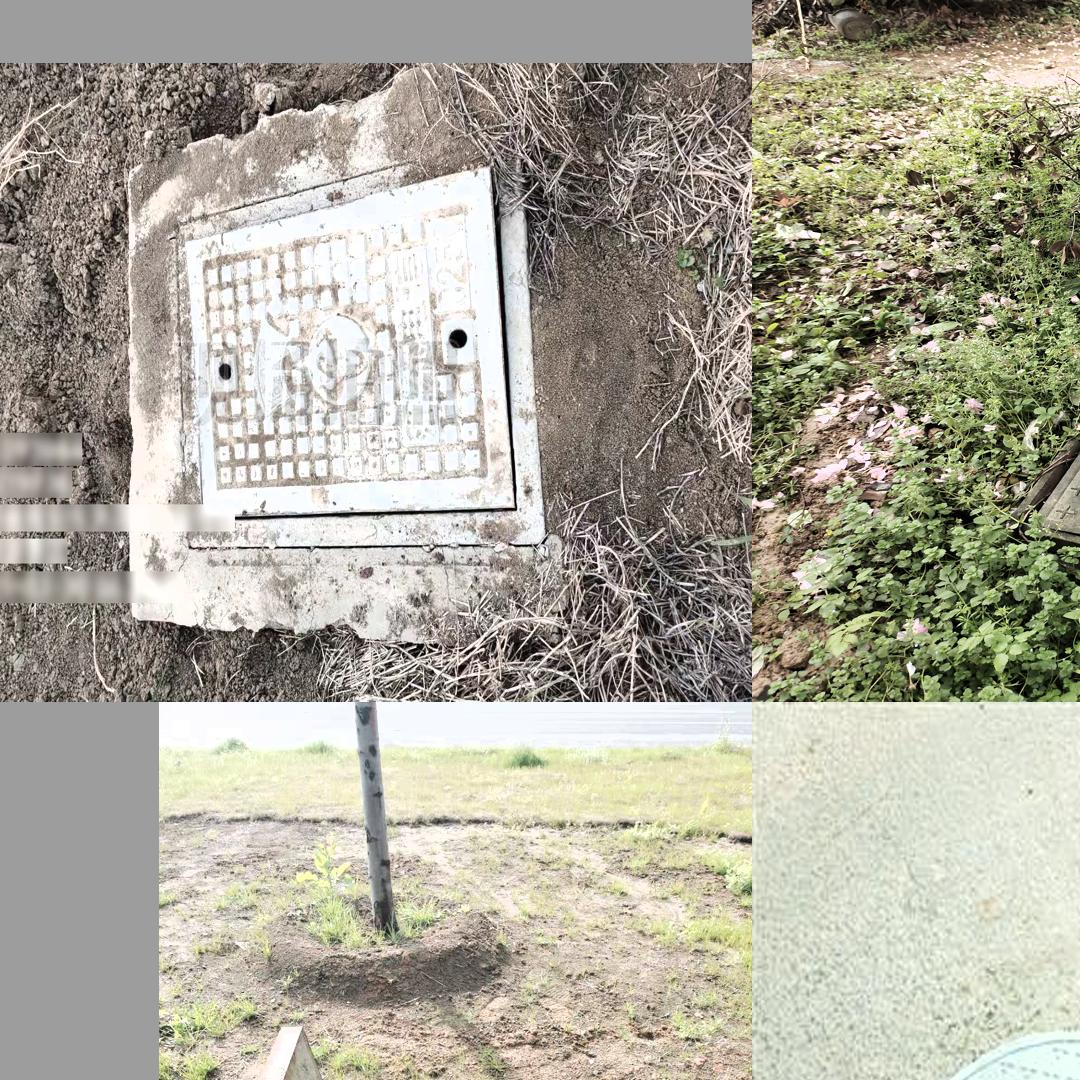uncovered: (170, 154, 572, 539), (857, 941, 1080, 1080), (165, 1031, 746, 1080), (1028, 334, 1080, 595)
